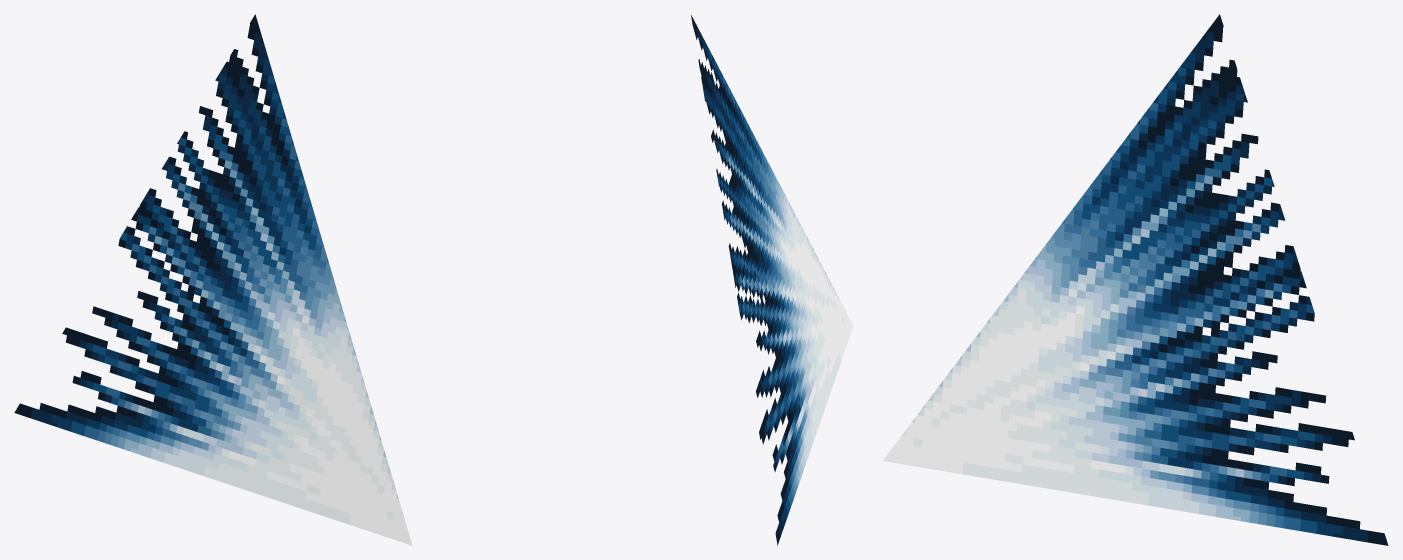
File: wind.glb
3 views of the same model, side by side, from view 1: azimuth 30°, elevation 25°; view 2: azimuth 150°, elevation 25°; view 3: azimuth 270°, elevation 25° (orthographic). The views are drawn at different scales.
Parts seen in each view (by area): view 1: Wind_00; view 2: Wind_00; view 3: Wind_00.
Part boxes in pixels (x1,y1,x2,y2): Wind_00: (14, 14, 412, 545); Wind_00: (691, 15, 853, 545); Wind_00: (882, 14, 1388, 545).
Size of the model in its own units: 0.62 by 0.76 by 0.78.
1 material, 1 textured.
